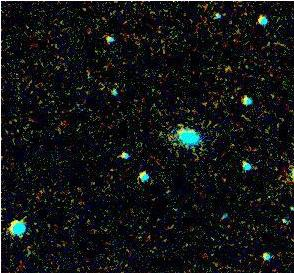star: (248, 62, 278, 92)
